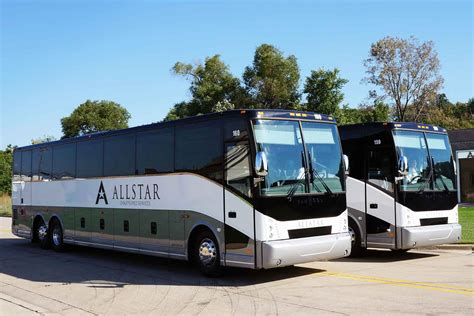bus: (11, 111, 348, 269), (341, 123, 462, 254)
